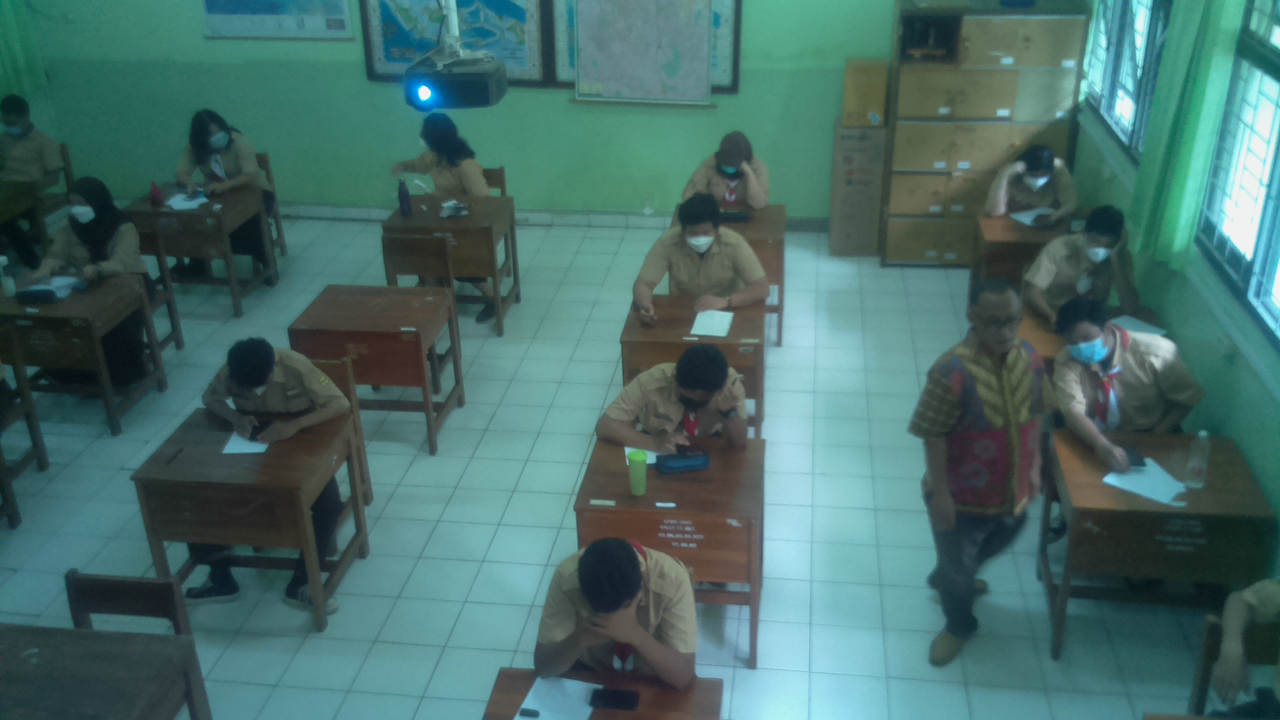Student: (939, 283, 1046, 502), (531, 541, 687, 670), (1055, 299, 1186, 422), (619, 341, 743, 443), (211, 339, 338, 415), (49, 175, 140, 270), (657, 203, 754, 292), (1046, 207, 1132, 293), (991, 143, 1082, 221), (0, 87, 66, 189), (411, 115, 488, 200), (179, 107, 262, 185), (689, 133, 762, 205)
